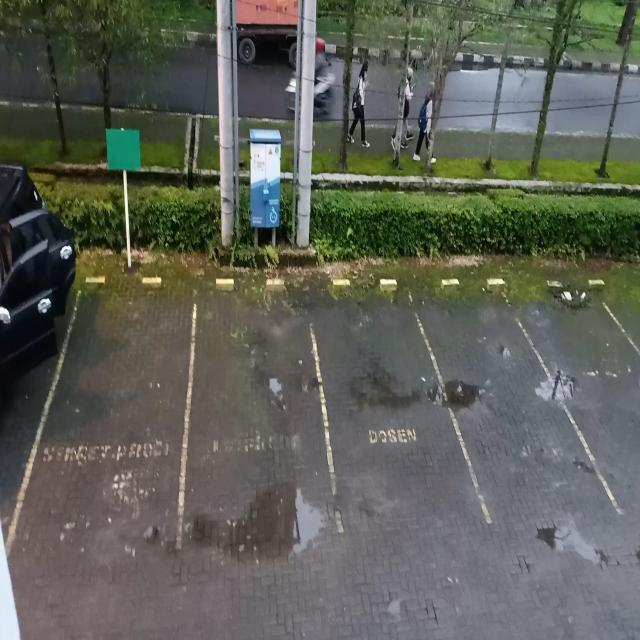empty: (40, 271, 196, 552), (181, 274, 326, 548), (321, 279, 452, 538), (444, 279, 567, 524), (559, 271, 640, 504)
